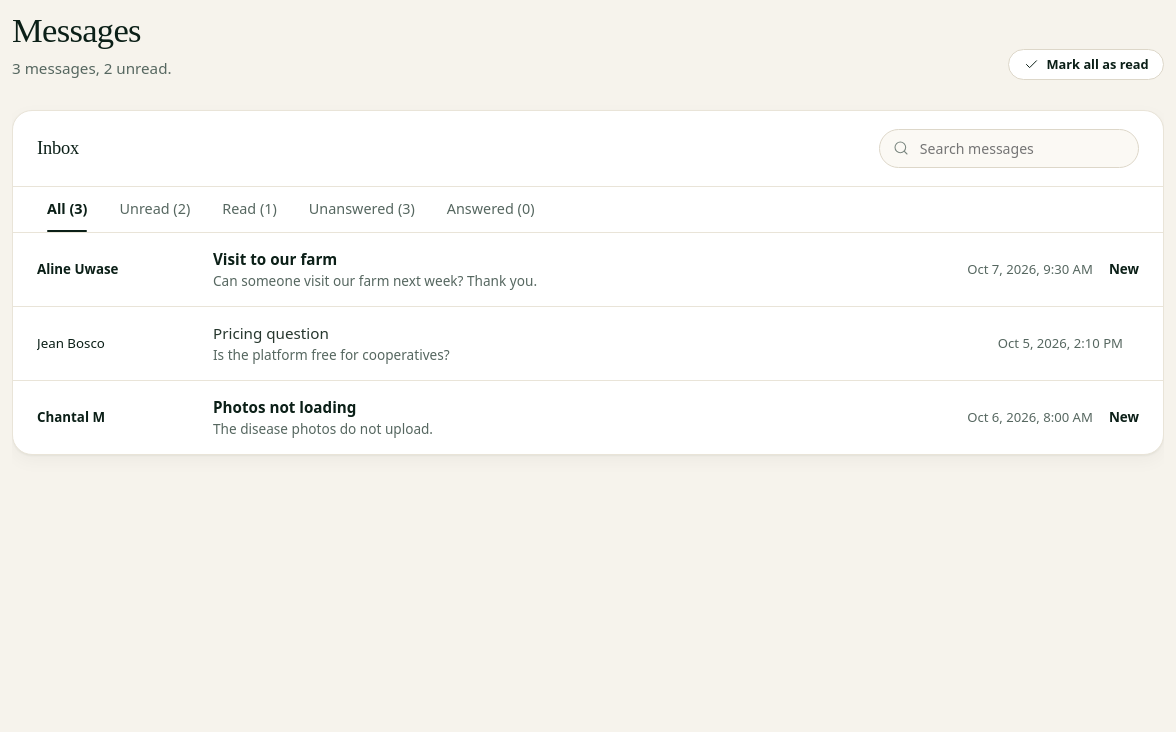
Test: Messages page › searches names, emails, subjects and the message
Check: the text "Visit to our farm" is shown, box [213,249,337,269]
Type "cooperatives" into the search field labelled "Search messages" at (1009, 148), box [879,129,1139,168]
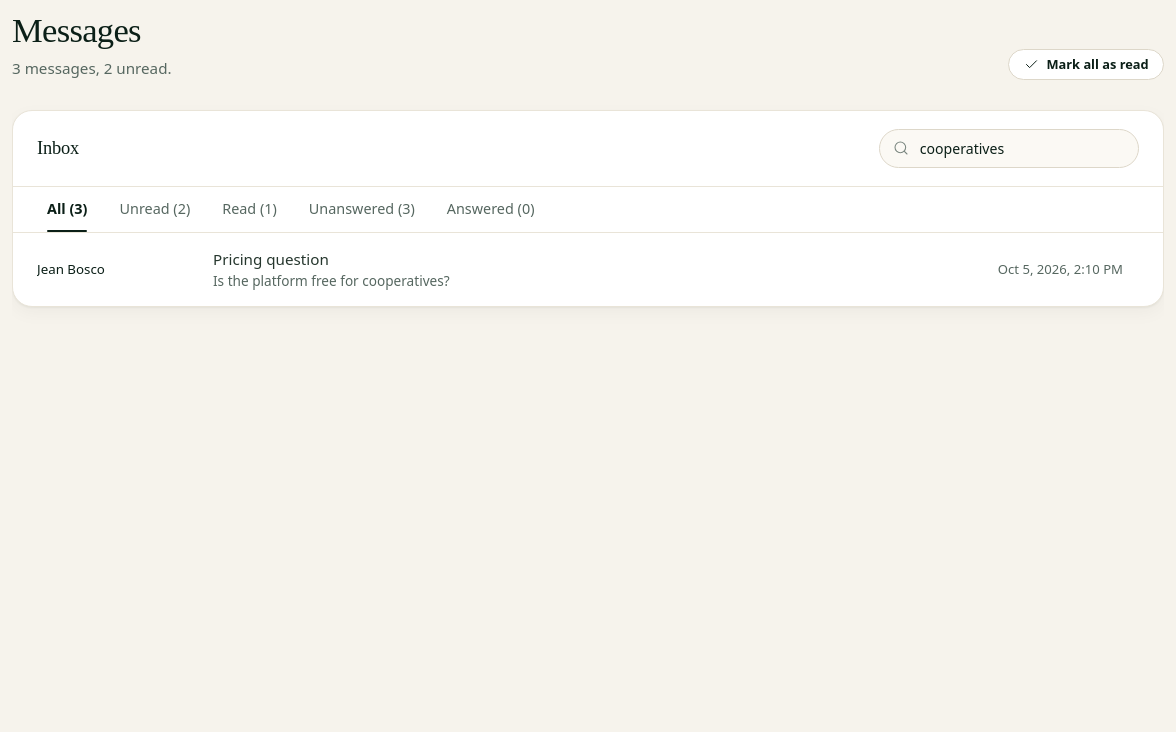
Check: the text "Pricing question" is shown, box [213,249,329,269]
Check: the button "Visit to our farm" is gone
Replace the text in the search field named "Search messages" with "zzz" at (1009, 148), box [879,129,1139,168]
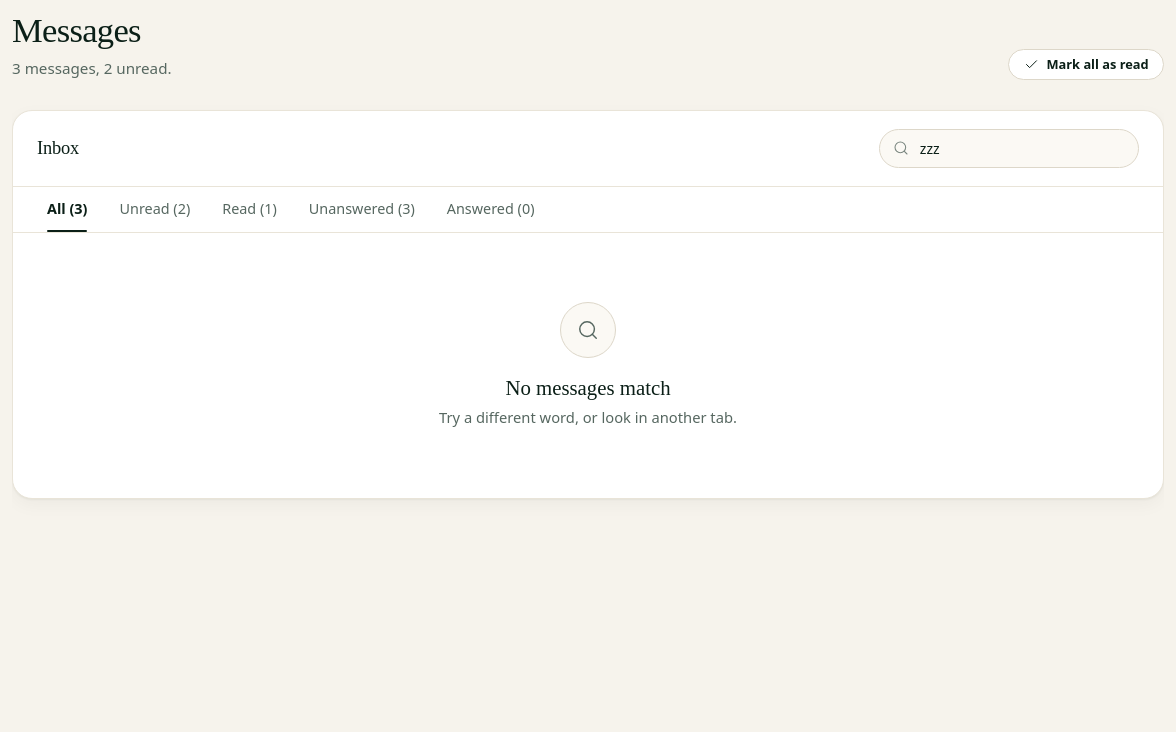
Check: the heading "No messages match" is shown, box [505,376,671,400]
